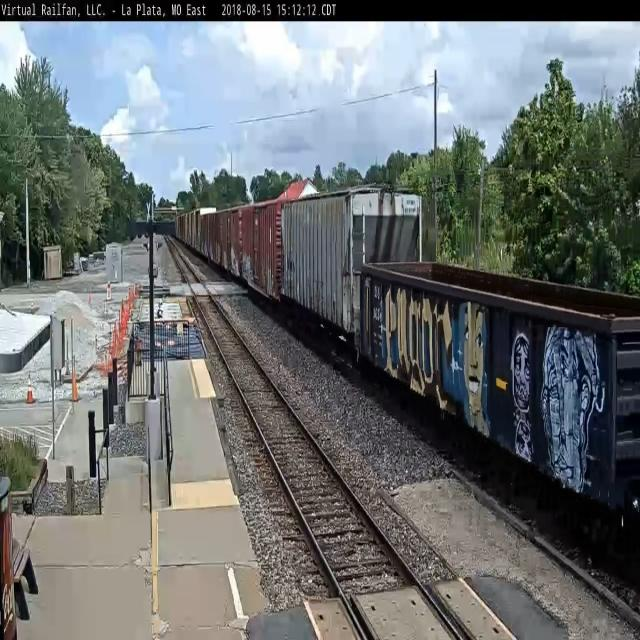boxcar: (240, 195, 282, 309)
gondola: (349, 251, 640, 557)
hopper: (280, 178, 432, 354)
